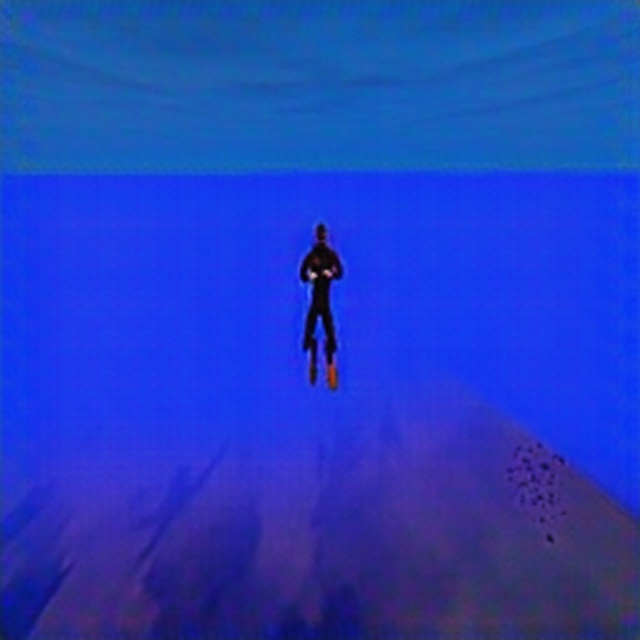diver: (295, 219, 344, 403)
